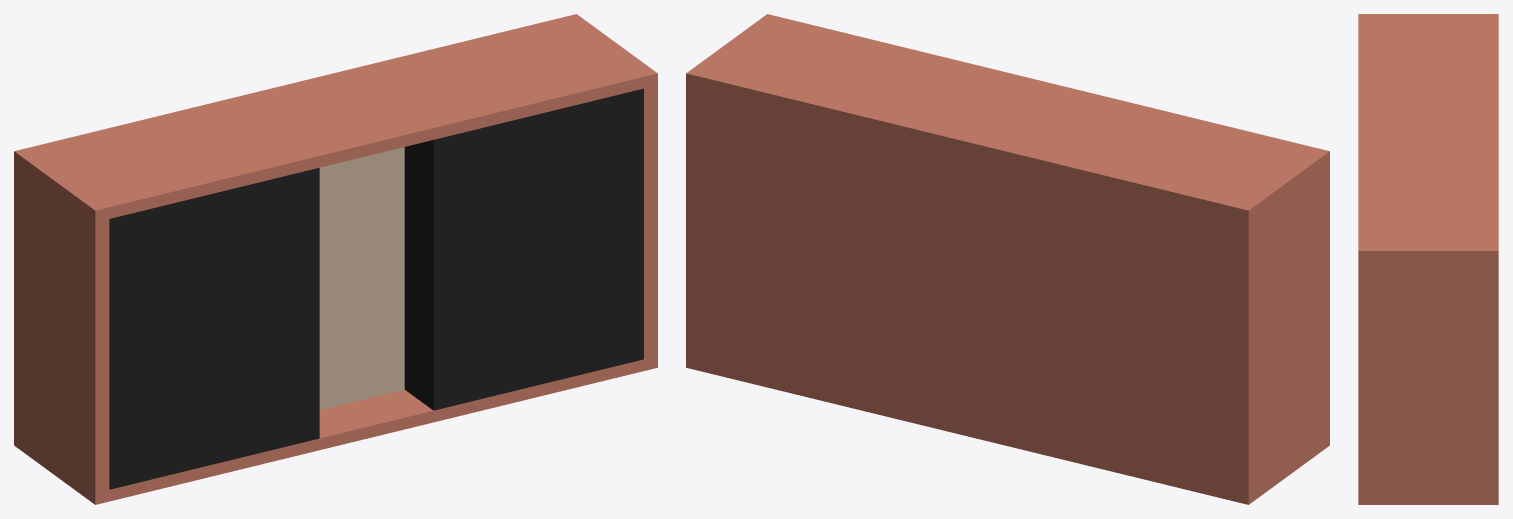
File: Block2B.fbx
The picture shows the model from 3 angles, left to right: view 1: azimuth 30°, elevation 25°; view 2: azimuth 150°, elevation 25°; view 3: azimuth 270°, elevation 25°; orthographic projection. The views are drawn at different scales.
Parts seen in each view (by area): view 1: Block2B; view 2: Block2B; view 3: Block2B.
Boxes of the visible parts, x1,y1,x2,y2 form: Block2B: [14, 14, 657, 504]; Block2B: [686, 14, 1329, 504]; Block2B: [1358, 14, 1498, 504].
Size of the model in its own units: 2 by 1 by 0.5.
